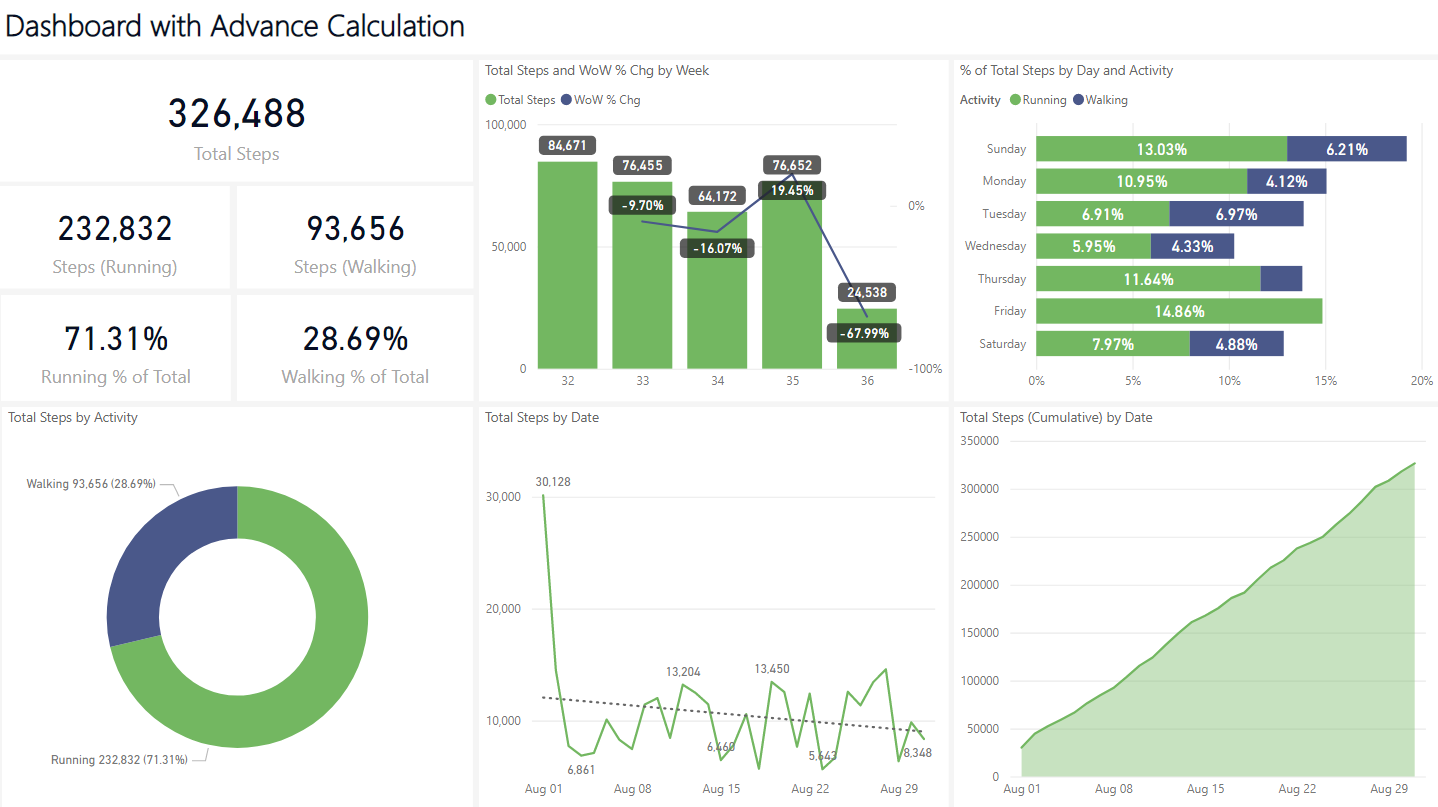

The page's visual inventory and layout, read from the dashboard file:
{"tool":"powerbi","page":{"name":"Advance Analysis","canvas":[1280,720],"ordinal":1},"visuals":[{"type":"textbox","box":[0,0,1280,49.6],"z":0},{"type":"card","fields":{"Values":["Basic Calculations.Total Steps"]},"box":[0.9,55,419.9,108.3],"z":1000},{"type":"card","fields":{"Values":["Advance Calculations.Steps (Running)"]},"box":[0.9,166.9,204.2,90.6],"z":2000},{"type":"donutChart","title":"Total Steps by Activity","fields":{"Y":["Sum(FACT_Activity.Steps)"],"Series":["DIM_Activity.ActivityName"]},"box":[2.7,363.1,418.2,356.9],"z":3000},{"type":"lineChart","fields":{"Category":["DIM_Date.Date"],"Y":["Basic Calculations.Total Steps"]},"box":[426.1,363.1,417.3,356.9],"z":4000},{"type":"lineStackedColumnComboChart","fields":{"Category":["DIM_Date.Week of Year"],"Y":["Basic Calculations.Total Steps"],"Y2":["Advance Calculations.Week Over Week % Change Steps"]},"box":[426.1,55,417.3,302.7],"z":5000},{"type":"barChart","fields":{"Y":["Basic Calculations.Total Steps"],"Series":["DIM_Activity.ActivityName"],"Category":["DIM_Date.Day Name"]},"box":[847.8,55,431.5,302.7],"z":6000},{"type":"card","fields":{"Values":["Advance Calculations.Steps (Walking)"]},"box":[211.3,166.9,209.5,90.6],"z":7000},{"type":"card","fields":{"Values":["Advance Calculations.Running % of Total"]},"box":[1.8,263.7,204.2,94.1],"z":8000},{"type":"card","fields":{"Values":["Advance Calculations.Walking % of Total"]},"box":[211.3,263.7,209.5,94.1],"z":9000},{"type":"areaChart","fields":{"Y":["Advance Calculations.Total Steps (Cumulative)"],"Category":["DIM_Date.Date"]},"box":[848,363,431,357],"z":10000}]}

Visuals, with their boxes in screenshot pixels (x1, y1, x2, y2), scaled from the page's 1280x720 canvas onto the 1438x807 screenshot:
textbox: 0 0 1437 56
card - Basic Calculations.Total Steps: 1 62 473 183
card - Advance Calculations.Steps (Running): 1 187 230 289
"Total Steps by Activity" donutChart: 3 407 473 806
lineChart - DIM_Date.Date x Basic Calculations.Total Steps: 479 407 948 806
lineStackedColumnComboChart - DIM_Date.Week of Year x Basic Calculations.Total Steps: 479 62 948 401
barChart - Basic Calculations.Total Steps x DIM_Activity.ActivityName: 952 62 1437 401
card - Advance Calculations.Steps (Walking): 237 187 473 289
card - Advance Calculations.Running % of Total: 2 296 231 401
card - Advance Calculations.Walking % of Total: 237 296 473 401
areaChart - Advance Calculations.Total Steps (Cumulative) x DIM_Date.Date: 953 407 1437 806
